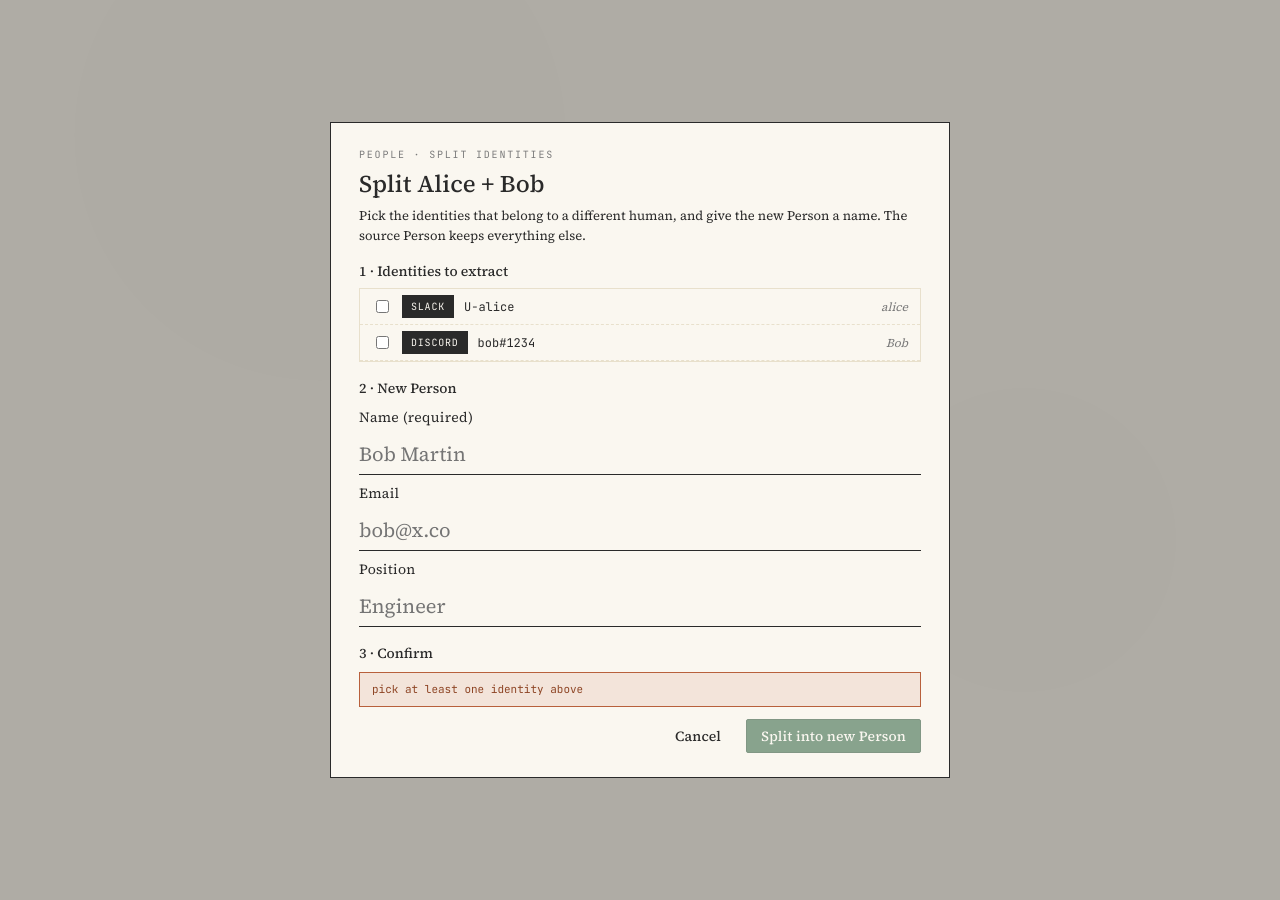
Test: SplitDialog › renders identity checkboxes; confirm is disabled until name + selection
Expected: the list item with test id "split-identity-slack-U-alice" is shown, [360,289,920,325]
Expected: the list item with test id "split-identity-discord-bob#1234" is shown, [360,325,920,361]
// Pick one identity but no name yet — still disabled.
Click the checkbox with test id "split-checkbox-discord-bob#1234" at (382, 343), box [376,336,389,349]
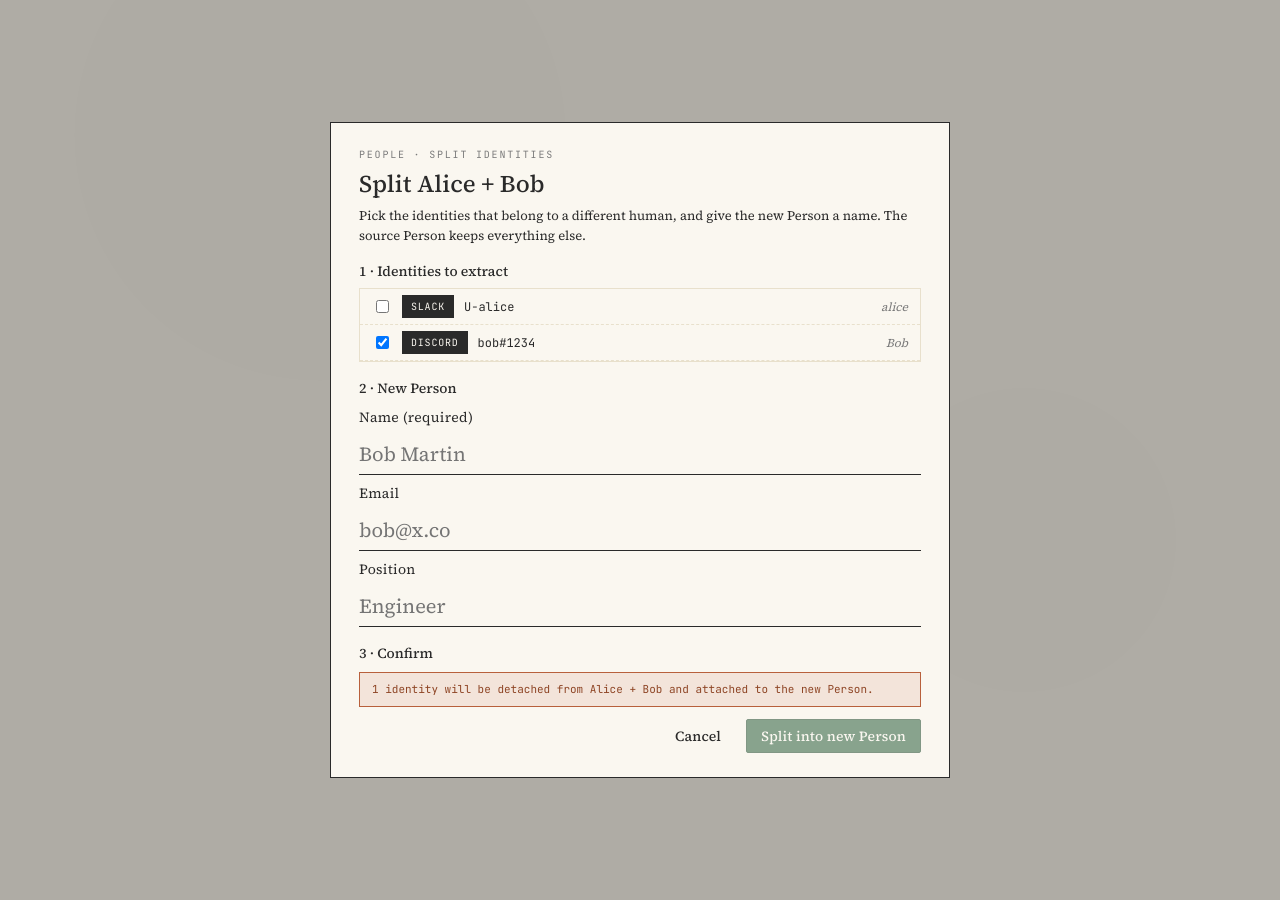
Expected: the button with test id "split-confirm" is disabled, [746,719,921,753]
// Add name — enabled.
Type "Bob" into the field with test id "split-name" at (640, 455), box [359,434,921,475]
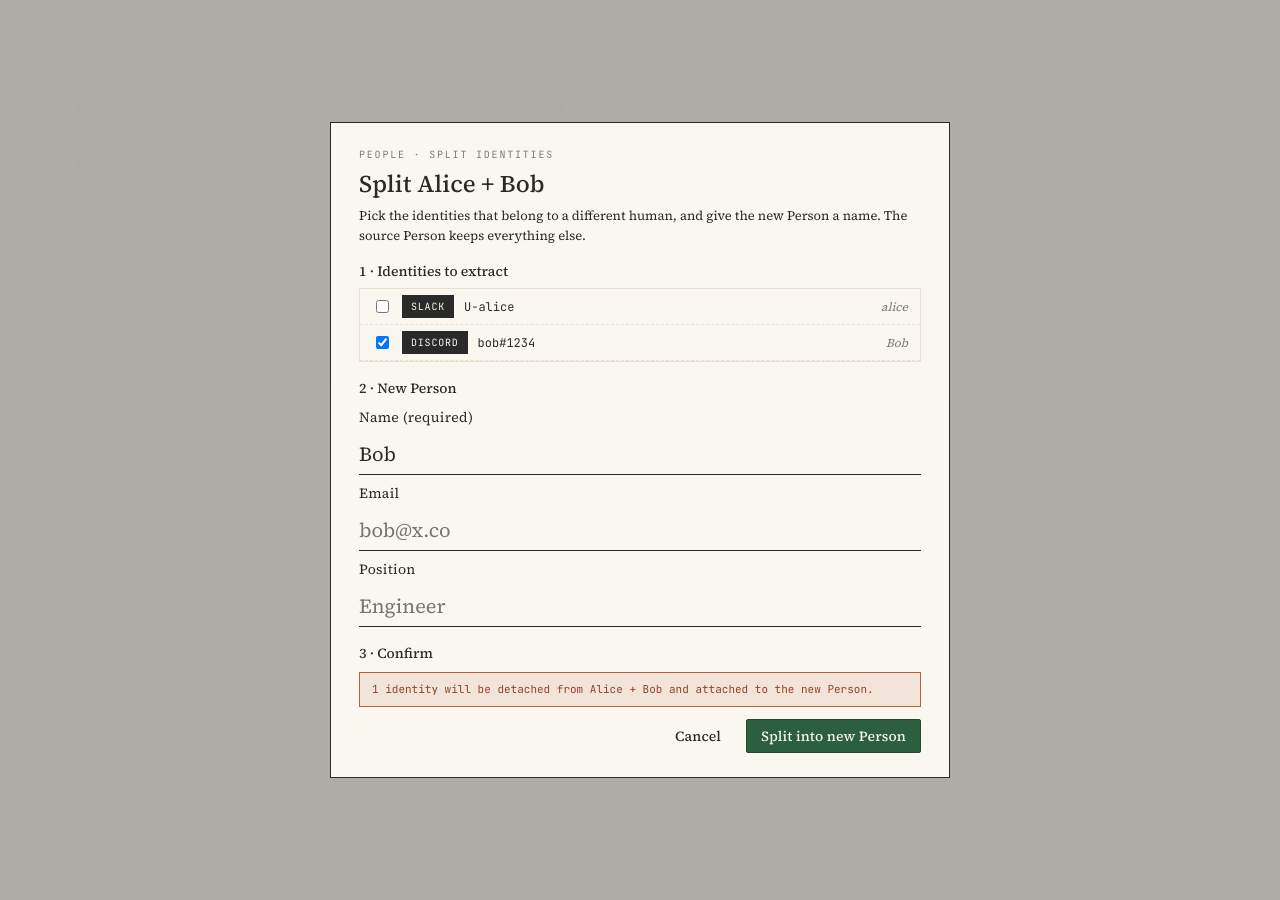
Expected: the button with test id "split-confirm" is enabled, [746,719,921,753]
